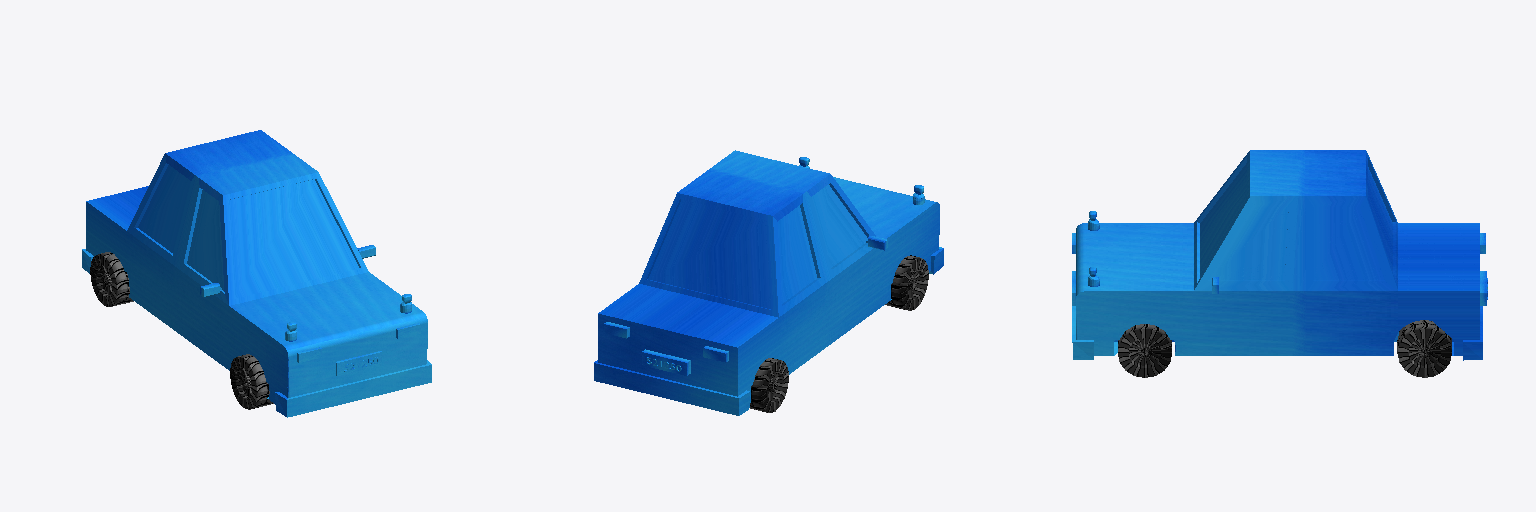
3 renders of one model, left to right at view 1: azimuth 30°, elevation 25°; view 2: azimuth 150°, elevation 25°; view 3: azimuth 270°, elevation 25°, orthographic.
Parts seen in each view (by area): view 1: Text, Cylinder.004_Cylinder.006, Cylinder.001_Cylinder.003; view 2: Text, Cylinder.001_Cylinder.003, Cylinder.004_Cylinder.006; view 3: Text, Cylinder.004_Cylinder.006, Cylinder.001_Cylinder.003.
Boxes of the visible parts, <box> form: Text: <box>82,130,431,417</box>; Cylinder.004_Cylinder.006: <box>90,252,133,306</box>; Cylinder.001_Cylinder.003: <box>230,354,273,409</box>; Text: <box>594,150,943,415</box>; Cylinder.001_Cylinder.003: <box>885,255,928,310</box>; Cylinder.004_Cylinder.006: <box>750,358,788,412</box>; Text: <box>1072,150,1487,360</box>; Cylinder.004_Cylinder.006: <box>1397,320,1451,377</box>; Cylinder.001_Cylinder.003: <box>1118,324,1171,377</box>.
Bounding box in the file's own units: 2.89 × 2.66 × 6.05.
11 materials, 2 textured.